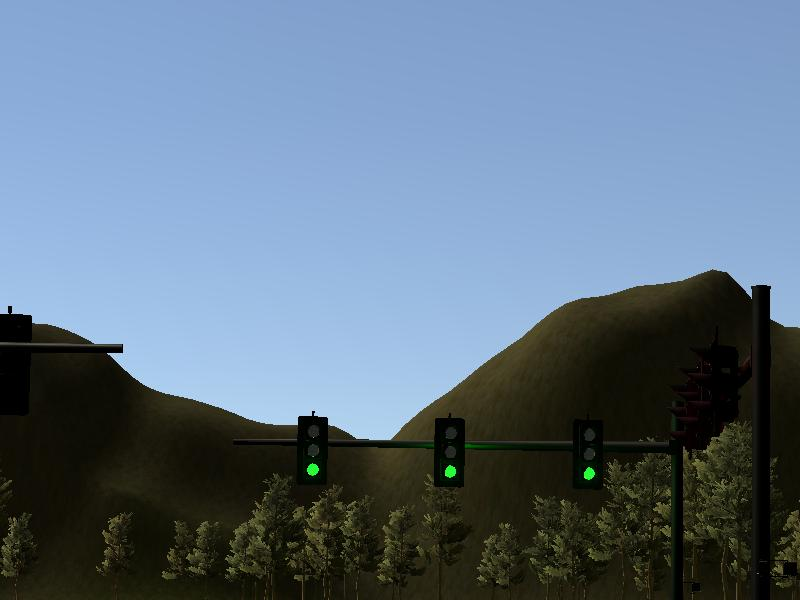green: (296, 413, 330, 486), (571, 419, 605, 489), (434, 415, 466, 488)
